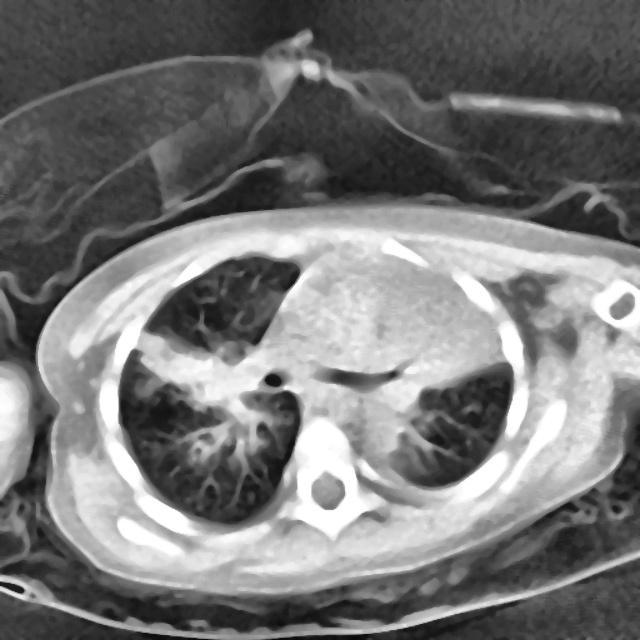covid: (34, 201, 637, 604)
